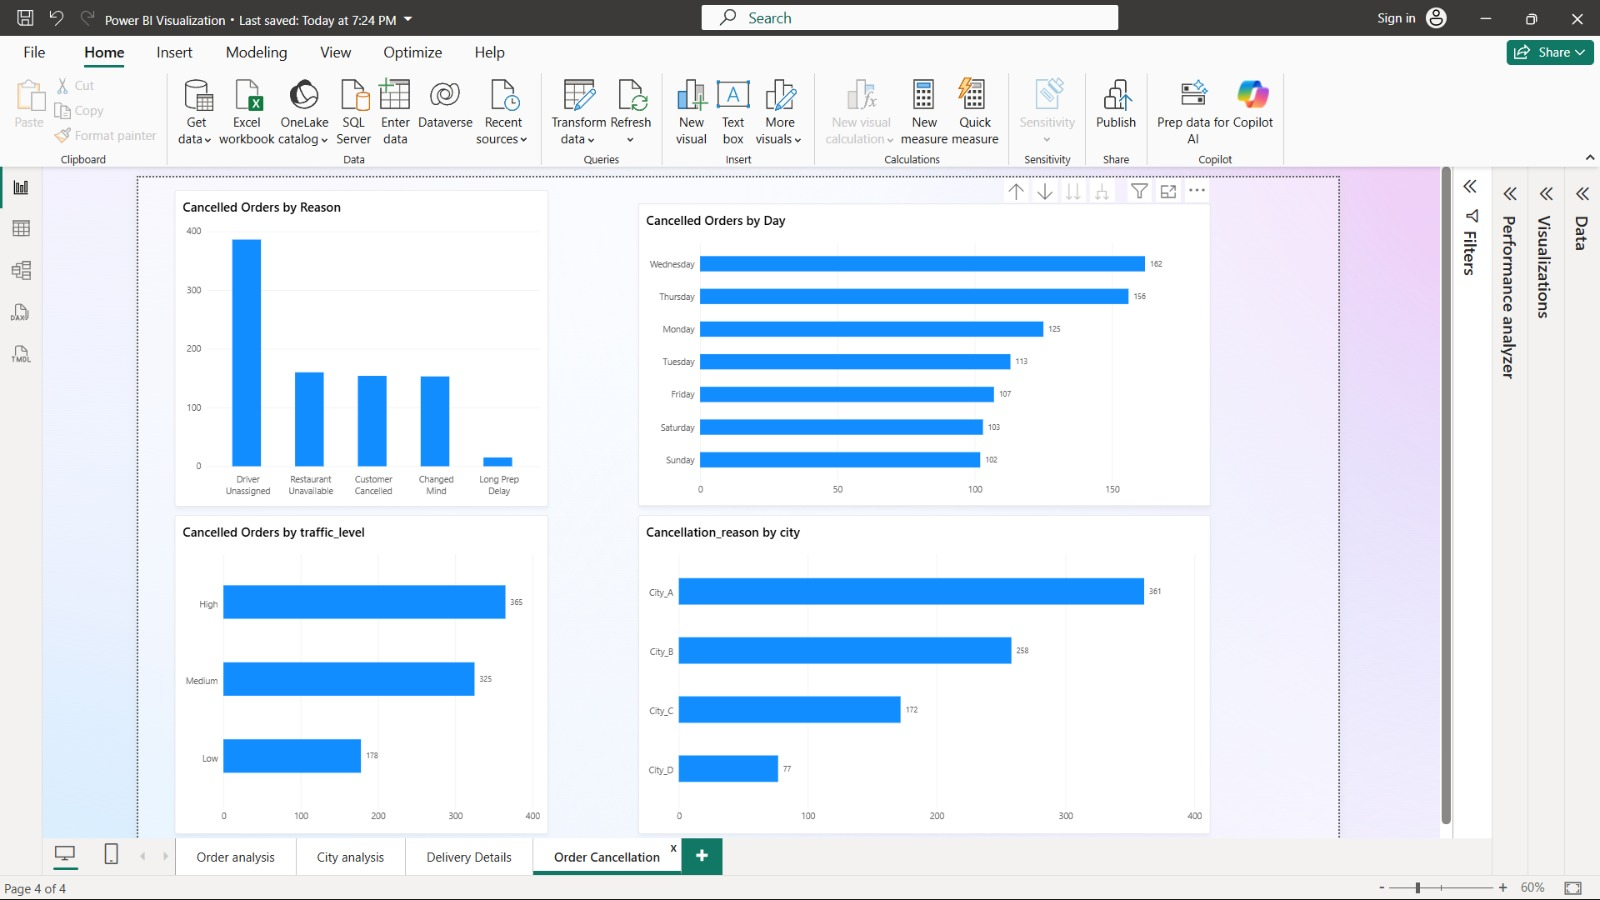

What the dashboard file says about the page in this screenshot:
{"tool":"powerbi","page":{"name":"Order Cancellation","canvas":[1920,1080],"ordinal":3},"visuals":[{"type":"clusteredColumnChart","title":"Cancelled Orders by Reason","fields":{"Category":["Main_Sheet.cancellation_reason"],"Y":["Main_Sheet.Cancelled Orders"]},"box":[58.8,20,597.5,506.2],"z":0},{"type":"barChart","title":"Cancellation_reason by city","fields":{"Category":["Main_Sheet.city"],"Y":["Main_Sheet.Cancelled Orders"]},"box":[800,540,915,510],"z":1000},{"type":"barChart","title":"Cancelled Orders by Day","fields":{"Category":["Main_Sheet.cancellation_reason","Main_Sheet.day_of_week"],"Y":["Main_Sheet.Cancelled Orders"]},"box":[800,41.7,915,485],"z":2000},{"type":"barChart","fields":{"Category":["Main_Sheet.traffic_level"],"Y":["Main_Sheet.Cancelled Orders"]},"box":[57.5,540,597.5,510],"z":3000}]}

Visuals, with their boxes on the page's 1920x1080 design canvas (x1, y1, x2, y2). These are canvas units, not pixel positions in the 1600x900 screenshot, which may show the page scaled, cropped or inside an application window:
"Cancelled Orders by Reason" clusteredColumnChart: select_region(59, 20, 656, 526)
"Cancellation_reason by city" barChart: select_region(800, 540, 1715, 1050)
"Cancelled Orders by Day" barChart: select_region(800, 42, 1715, 527)
barChart - Main_Sheet.traffic_level x Main_Sheet.Cancelled Orders: select_region(58, 540, 655, 1050)
